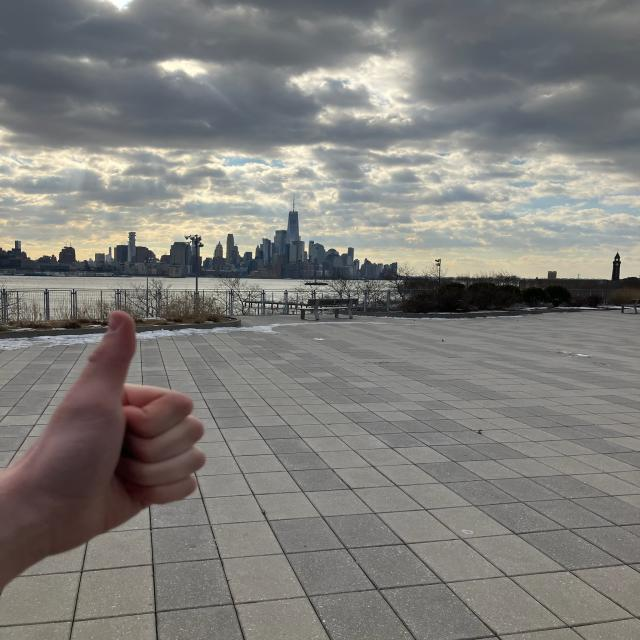WTC: (286, 192, 300, 242)
